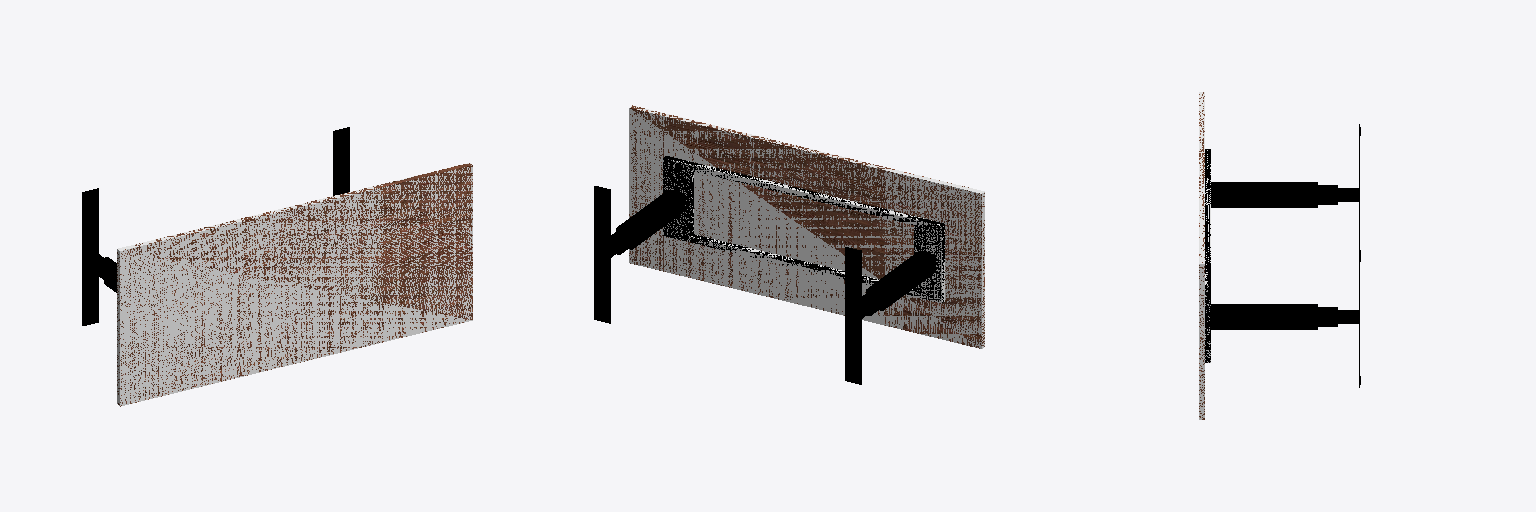
3 renders of one model, left to right at view 1: azimuth 30°, elevation 25°; view 2: azimuth 150°, elevation 25°; view 3: azimuth 270°, elevation 25°, orthographic.
Parts seen in each view (by area): view 1: model_normalized; view 2: model_normalized; view 3: model_normalized.
Part boxes in pixels (bbox=[...]): model_normalized: bbox=[82, 127, 472, 406]; model_normalized: bbox=[594, 105, 984, 384]; model_normalized: bbox=[1199, 92, 1360, 419].
Size of the model in its own units: 2 by 0.8421 by 0.8.
4 materials, 1 textured.